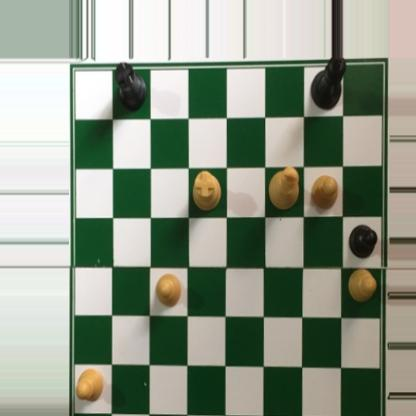black-king: (309, 58, 346, 113)
black-pawn: (347, 223, 378, 258)
black-rook: (113, 59, 148, 111)
white-king: (266, 165, 300, 213)
white-pawn: (309, 171, 339, 212), (74, 366, 104, 402), (347, 267, 377, 303), (155, 272, 182, 309)
white-rook: (191, 166, 222, 211)
